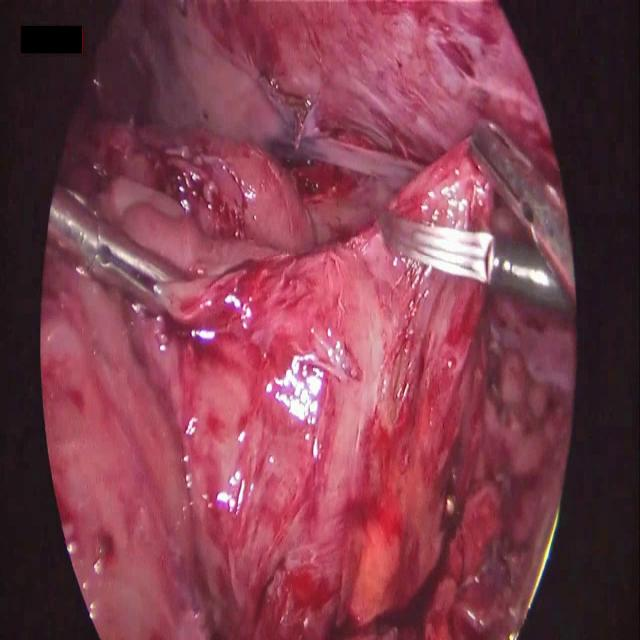surgical-area: (38, 0, 574, 639)
surgical-tool: (384, 118, 574, 311), (43, 180, 203, 324)
